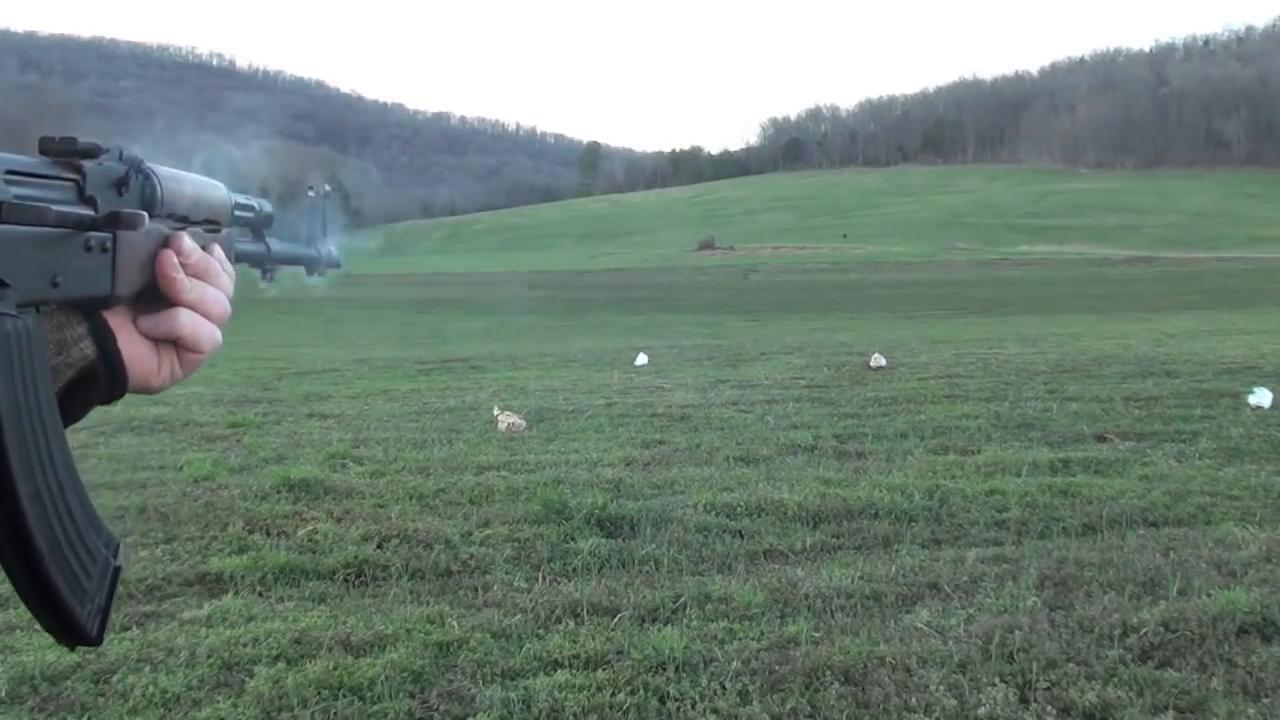AK47 Rifle: (1, 134, 339, 646)
